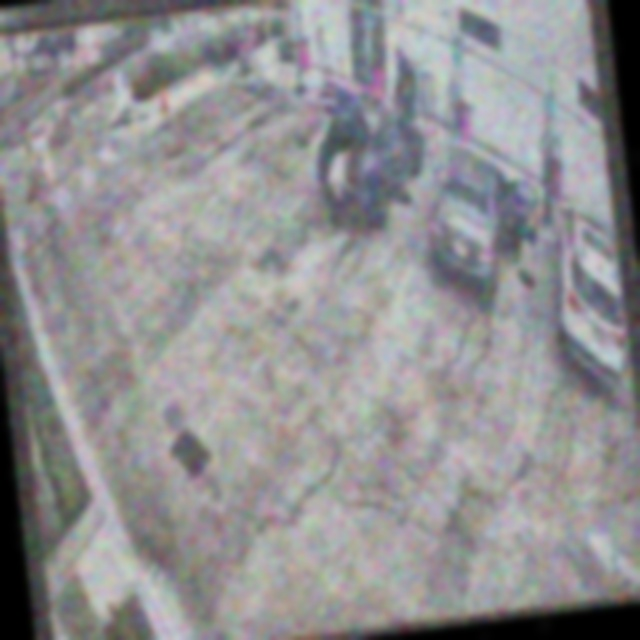Car: (309, 68, 433, 229), (422, 140, 541, 295)
